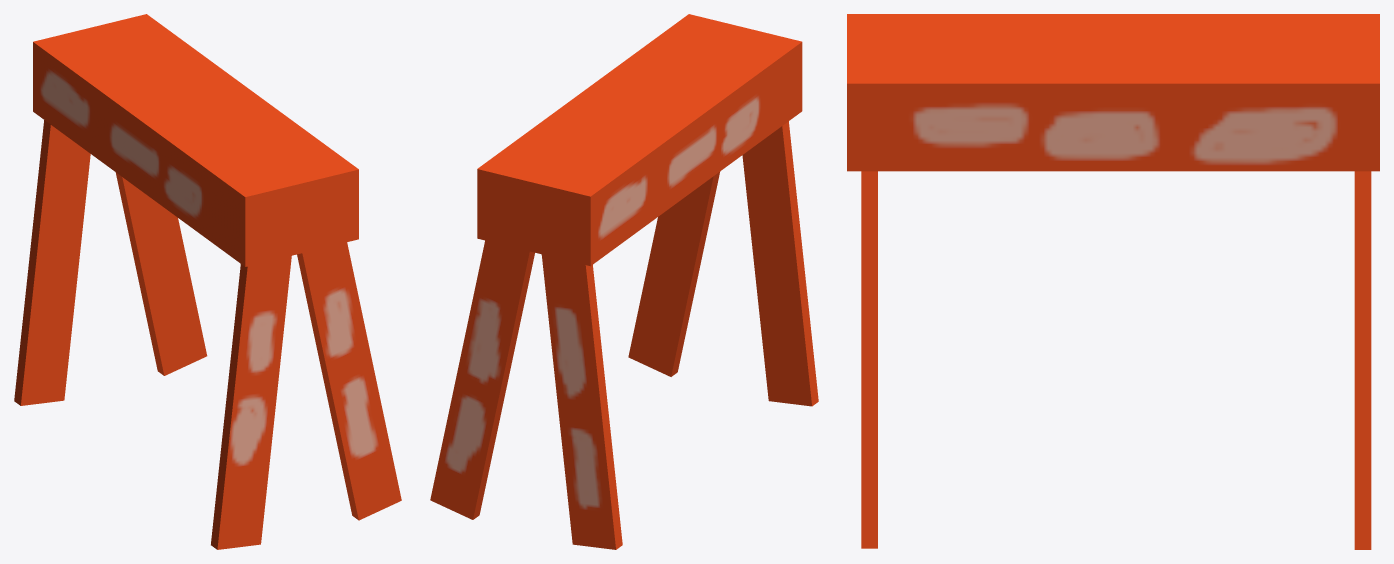
File: Obstaculo2.fbx
3 renders of one model, left to right at view 1: azimuth 30°, elevation 25°; view 2: azimuth 150°, elevation 25°; view 3: azimuth 270°, elevation 25°, orthographic. The views are drawn at different scales.
Visible parts, largest first — view 1: Obstaculo2; view 2: Obstaculo2; view 3: Obstaculo2.
Boxes of the visible parts, x1,y1,x2,y2 form: Obstaculo2: [14, 14, 401, 549]; Obstaculo2: [430, 14, 818, 549]; Obstaculo2: [847, 14, 1379, 549].
Size of the model in its own units: 12.67 by 23.15 by 24.98.
1 material, 1 textured.
